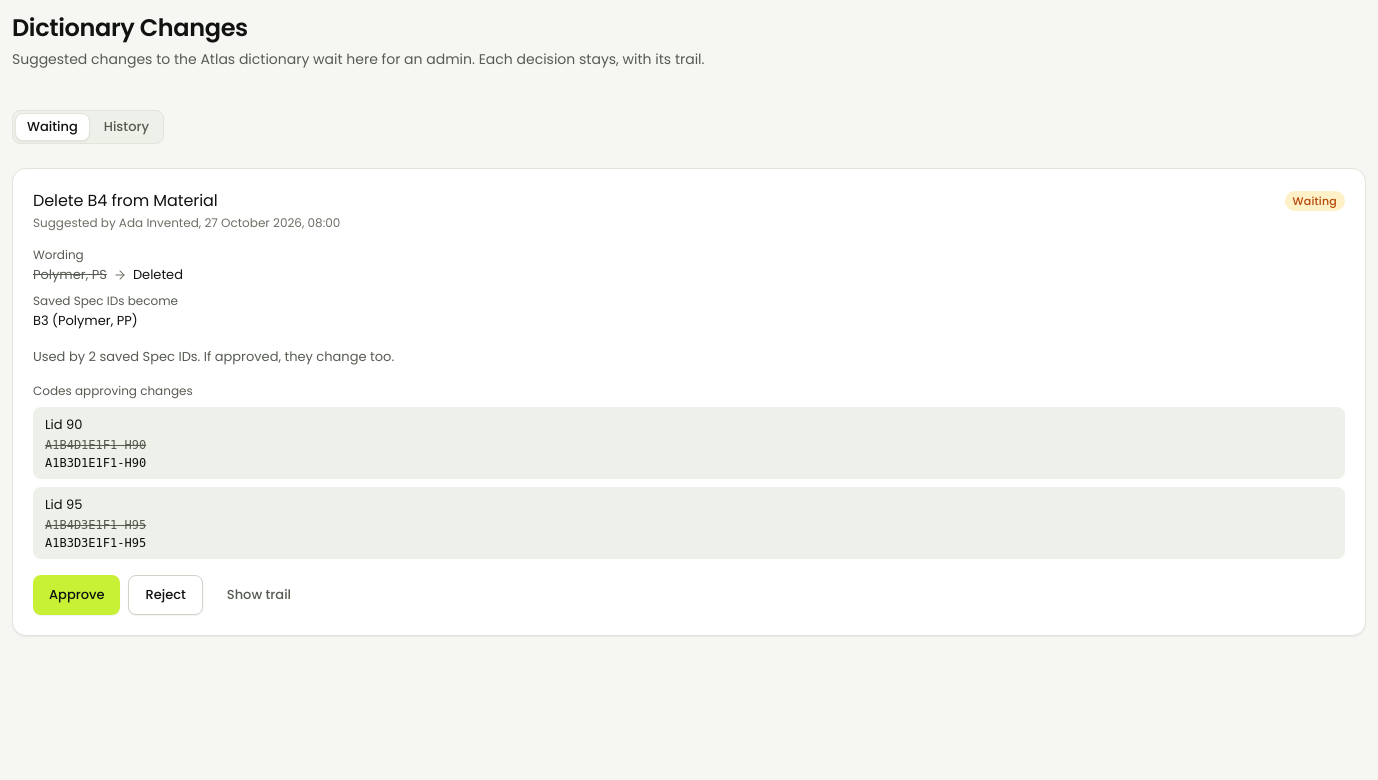
Test case: DictionaryChangesPage › says the change is live, though the card has already left the list
Click the button "Approve": (77, 595) [33,575,120,615]
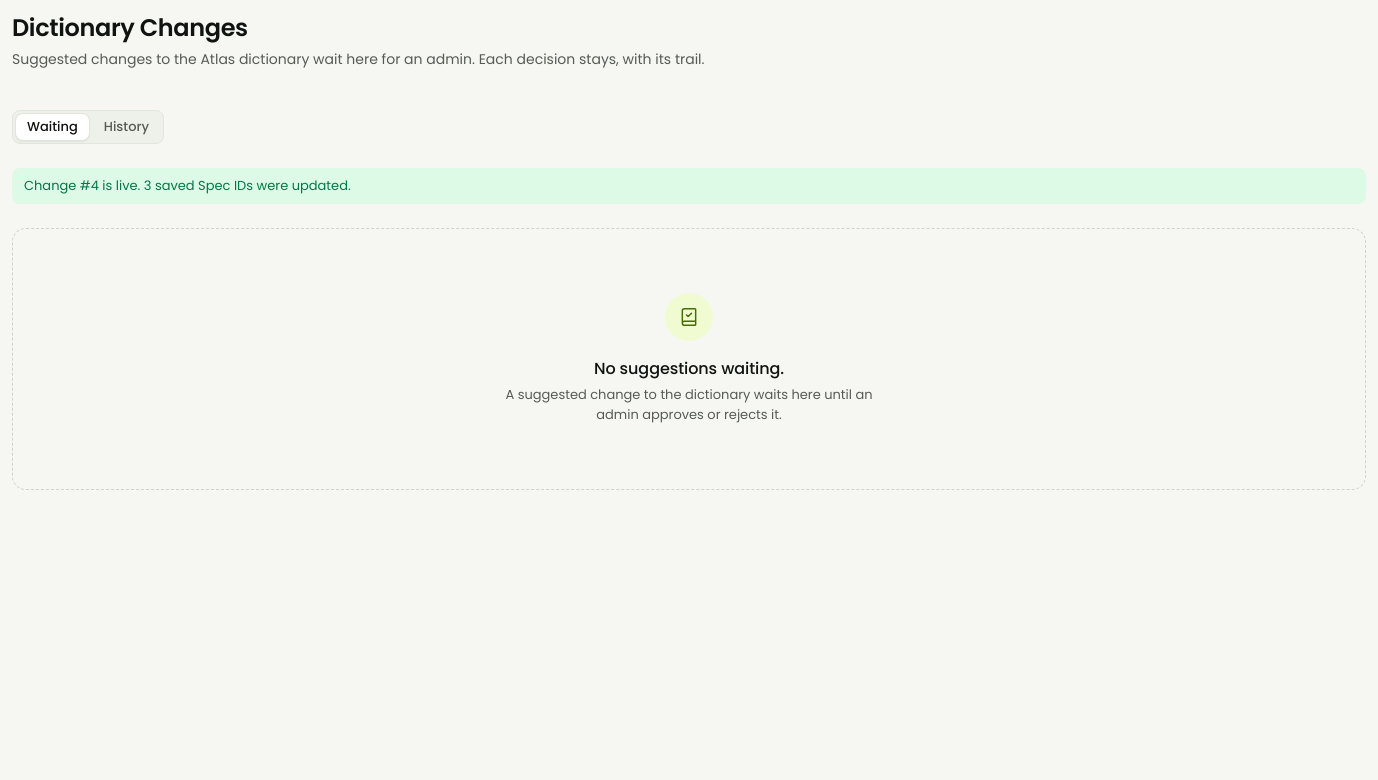
Expected: the text "No suggestions waiting." is shown, [594,357,784,380]
Expected: the text "Change #4 is live. 3 saved Spec IDs were updated." is shown, [12,168,1366,204]
